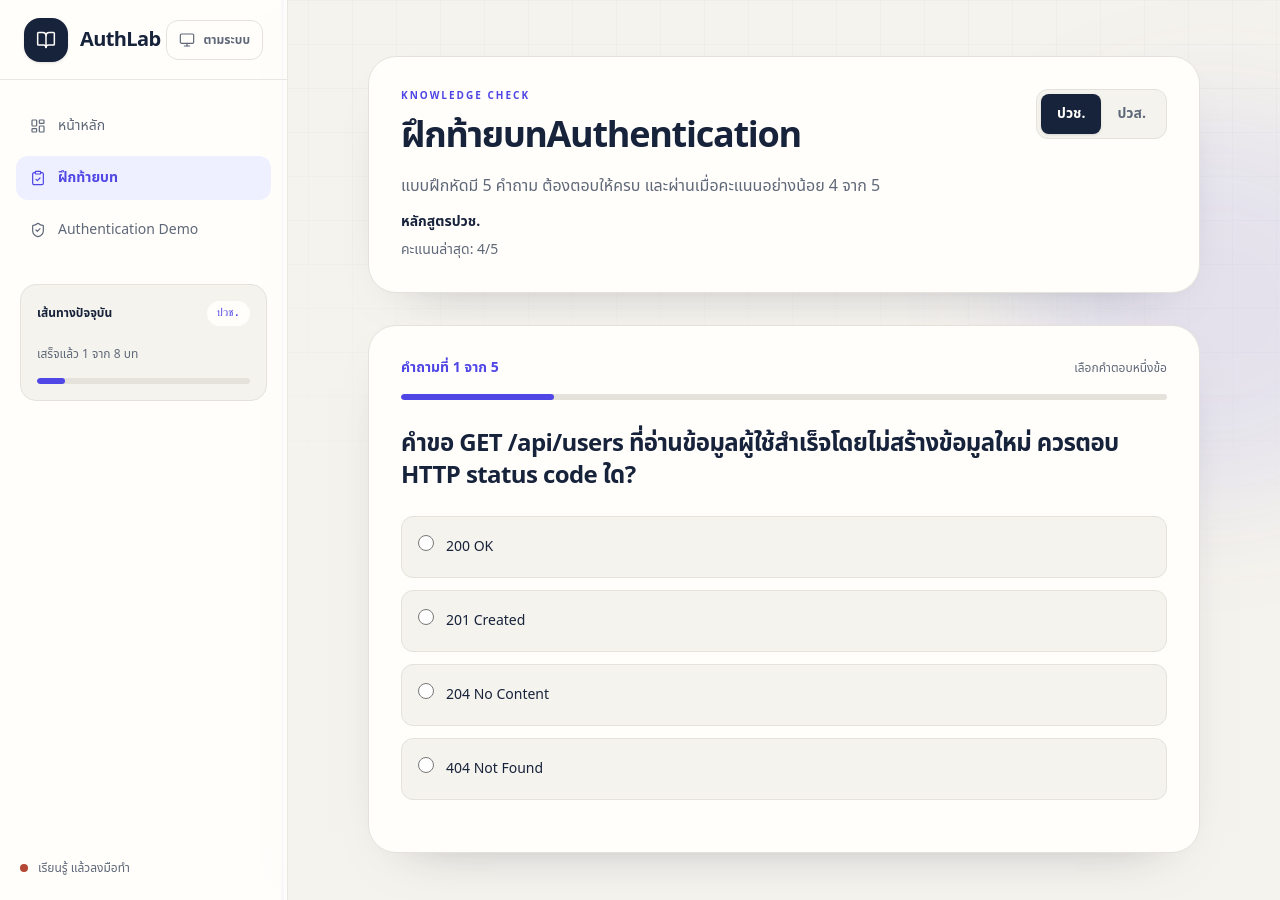
it: PracticePage › resets the visible attempt when switching tracks without leaking answers or scores
The width and height of the screenshot is (1280, 900).
Click the radio button labelled "200 OK" at (426, 543), box left=418, top=535, right=434, bottom=551
(page scrolled)
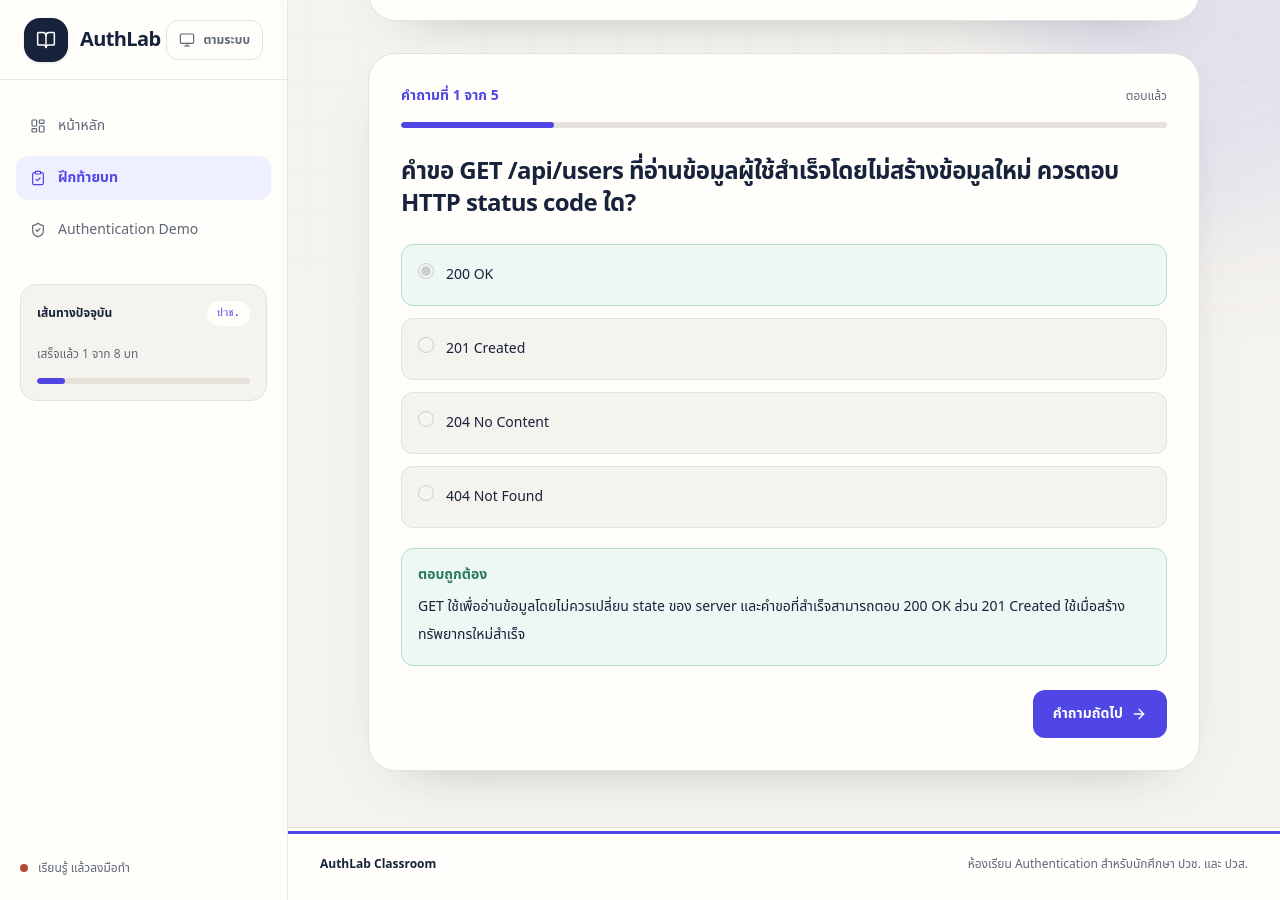
Click the button "คำถามถัดไป" at (1100, 714), box left=1033, top=690, right=1167, bottom=738
(page scrolled)
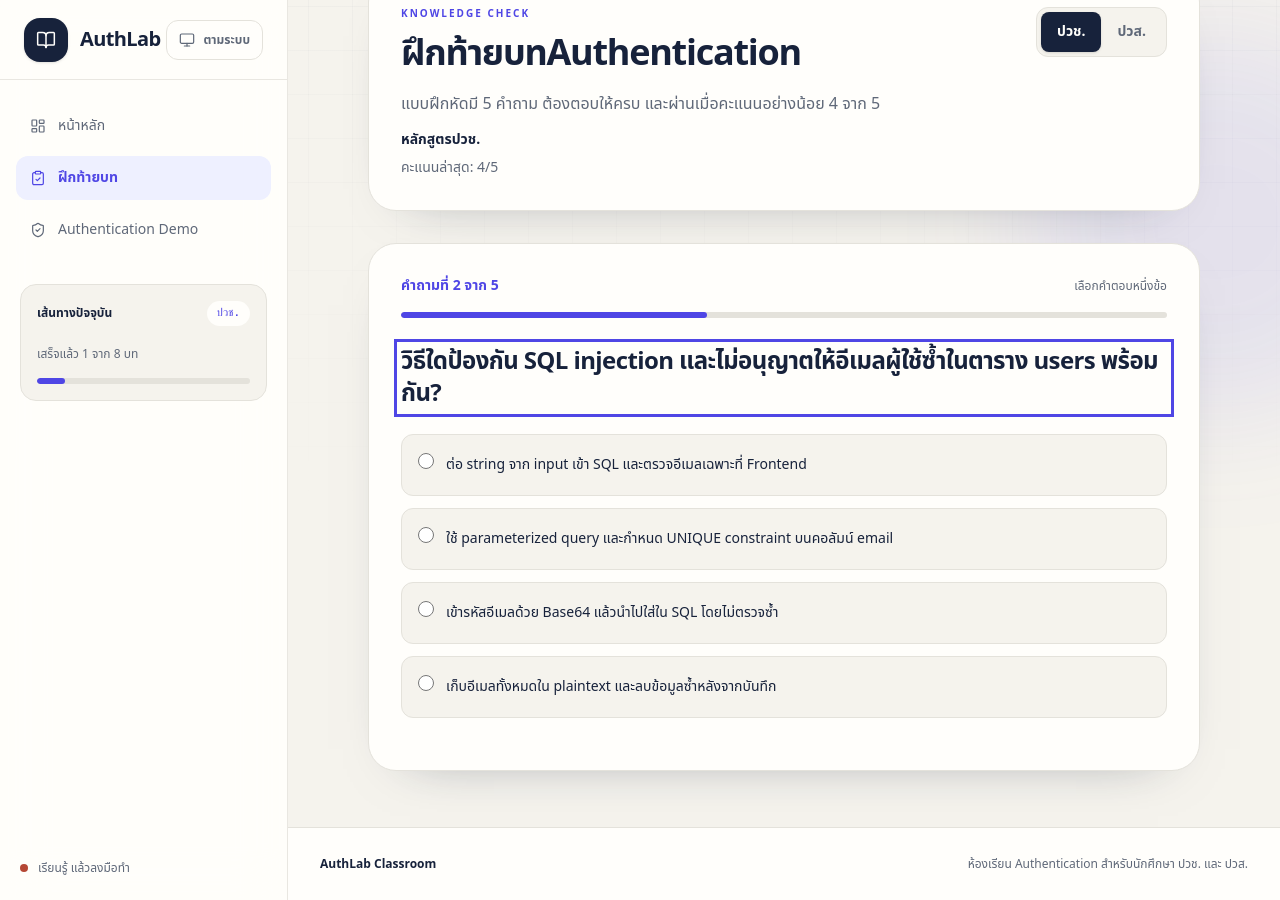
expect the text "คำถามที่ 2 จาก 5" is shown: met, box left=401, top=276, right=499, bottom=296
Click the button "ปวส." at (1132, 32), box left=1102, top=12, right=1162, bottom=52
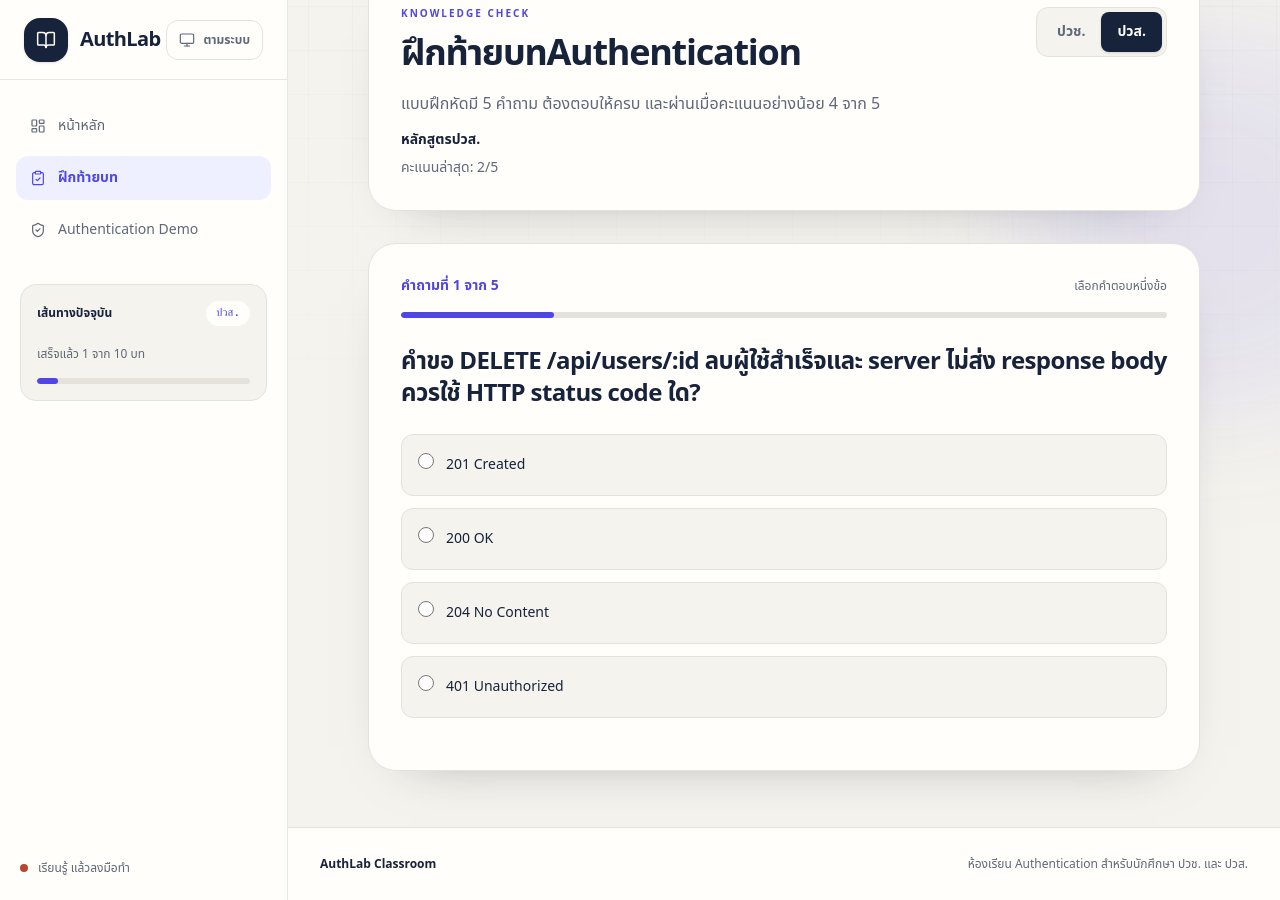
expect the text "หลักสูตรปวส." is shown: met, box left=401, top=129, right=480, bottom=150
expect the text "คำถามที่ 1 จาก 5" is shown: met, box left=401, top=276, right=499, bottom=296
expect the heading named "คำขอ DELETE /api/users/:id ลบผู้ใช้สำเร็จและ server ไม่ส่ง response body ควรใช้ HTTP status code ใด?" is shown: met, box left=401, top=346, right=1167, bottom=410
Click the button "ปวช." at (1071, 32), box left=1041, top=12, right=1102, bottom=52
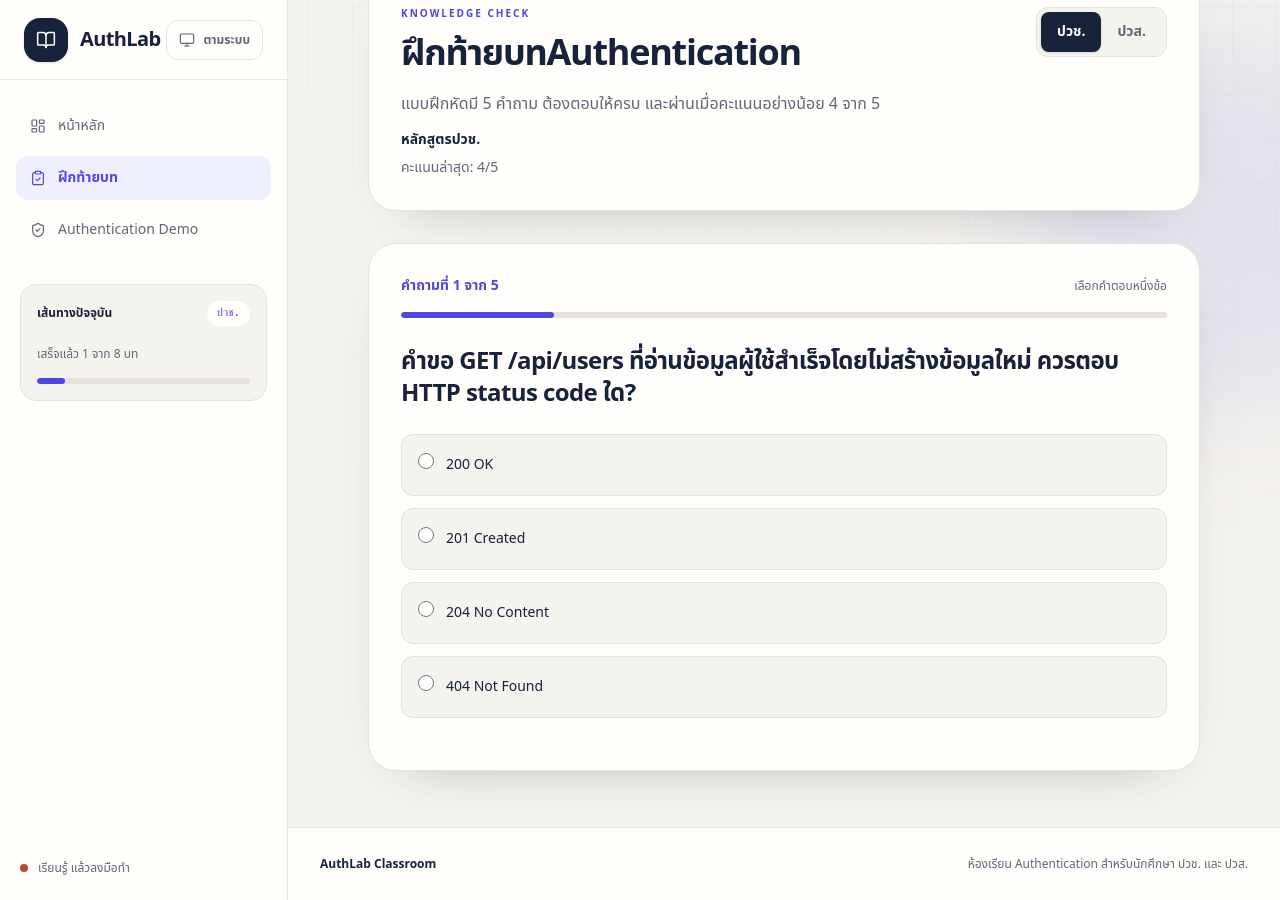
expect the radio button labelled "200 OK" is not checked: met, box left=418, top=453, right=434, bottom=469
expect the text "คำถามที่ 1 จาก 5" is shown: met, box left=401, top=276, right=499, bottom=296
expect the text "คะแนนล่าสุด: 4/5" is shown: met, box left=401, top=157, right=498, bottom=178
